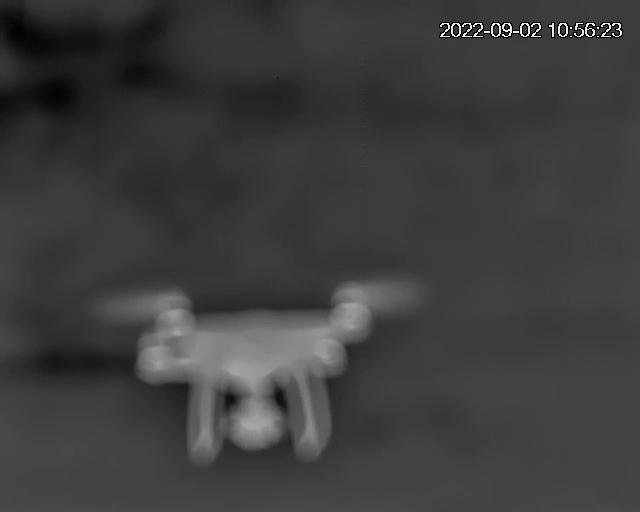DJI-Phantom: (100, 286, 387, 464)
